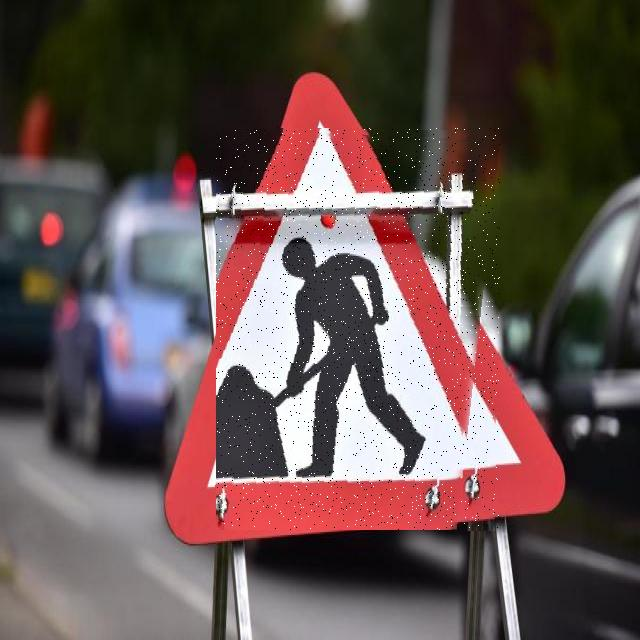roadwork: (216, 128, 500, 530)
